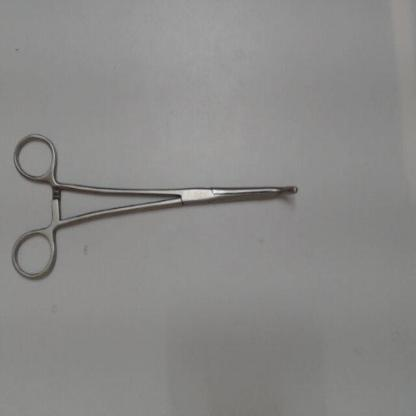Lahey Forceps: (6, 126, 305, 290)
